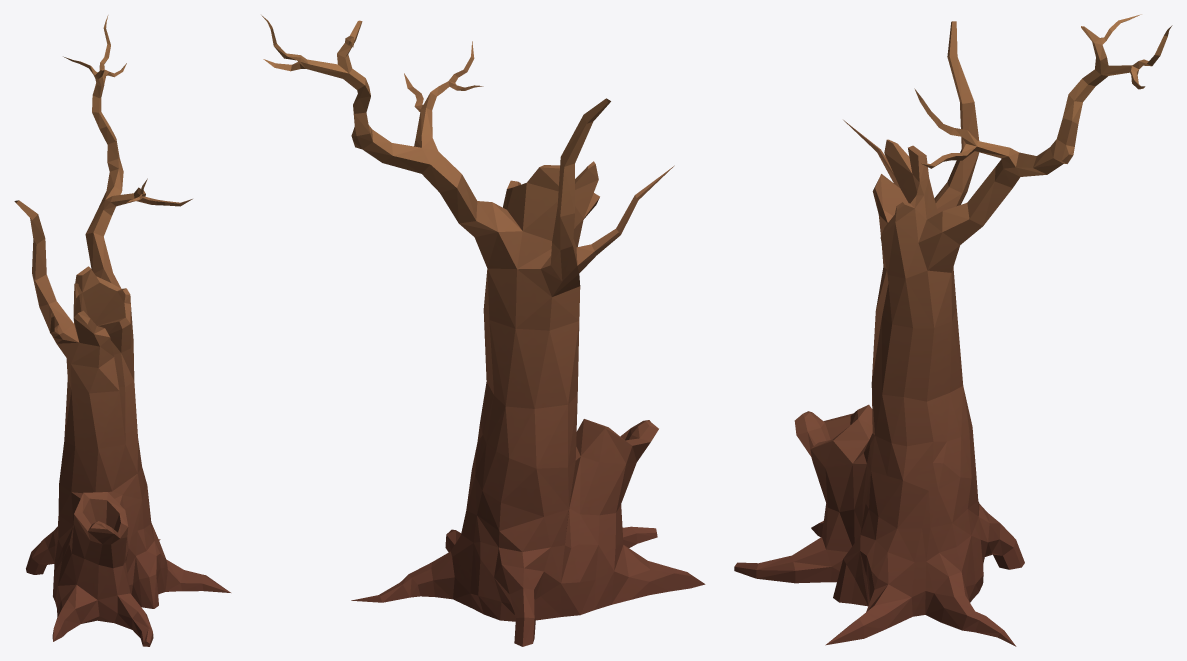
File: ZLP_Plant_L_1.FBX
3 views of the same model, side by side, from view 1: azimuth 30°, elevation 25°; view 2: azimuth 150°, elevation 25°; view 3: azimuth 270°, elevation 25° (orthographic). The views are drawn at different scales.
Parts seen in each view (by area): view 1: ZLP_Plant_L_1; view 2: ZLP_Plant_L_1; view 3: ZLP_Plant_L_1.
Part boxes in pixels (x1,y1,x2,y2): ZLP_Plant_L_1: (14, 15, 230, 646); ZLP_Plant_L_1: (261, 15, 705, 646); ZLP_Plant_L_1: (734, 14, 1172, 646).
Size of the model in its own units: 476 by 1078 by 683.
